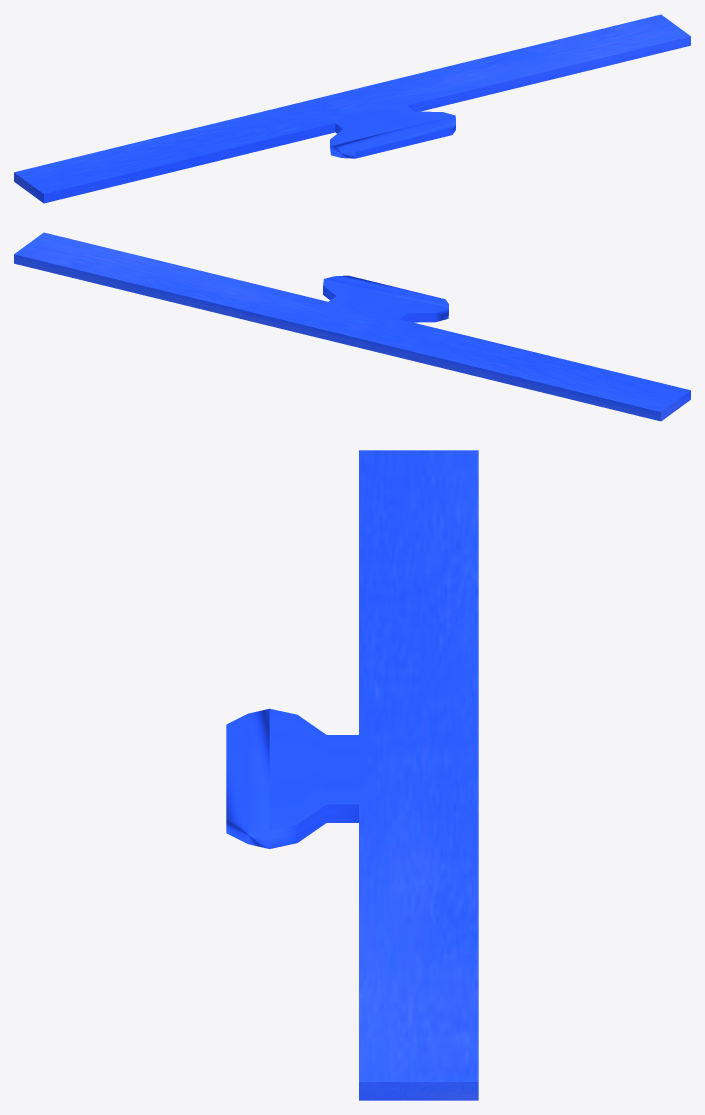
Rendered from ReleaseTray.gltf.
3 views of the same model, one above another, from view 1: azimuth 30°, elevation 25°; view 2: azimuth 150°, elevation 25°; view 3: azimuth 270°, elevation 25° (orthographic). The views are drawn at different scales.
Parts seen in each view (by area): view 1: ReleaseTray; view 2: ReleaseTray; view 3: ReleaseTray.
Boxes of the visible parts, box(x1,y1,x2,y2) form: ReleaseTray: box(14, 14, 690, 203); ReleaseTray: box(14, 232, 690, 421); ReleaseTray: box(226, 450, 478, 1100).
Bounding box in the file's own units: 7.47 × 0.103 × 1.26.
1 material, 1 textured.
